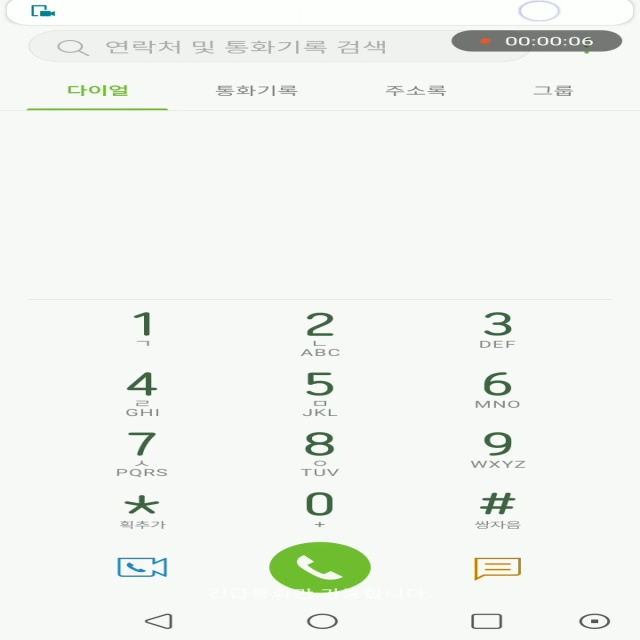Cursor: (518, 1, 562, 23)
